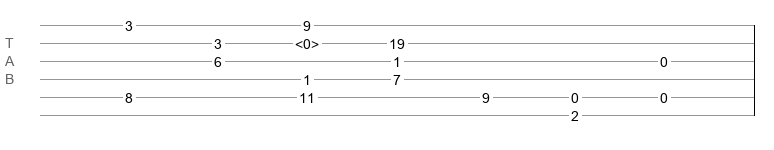0: (571, 90, 579, 100), (660, 90, 668, 100), (660, 54, 668, 64)
1: (303, 72, 311, 82), (393, 54, 401, 64)
11: (299, 90, 315, 100)
19: (389, 36, 405, 46)
2: (571, 108, 579, 118)
3: (125, 18, 133, 28), (214, 36, 222, 46)
6: (214, 54, 222, 64)
7: (393, 72, 401, 82)
8: (125, 90, 133, 100)
9: (303, 18, 311, 28), (482, 90, 490, 100)
harmonic: (295, 36, 319, 46)
